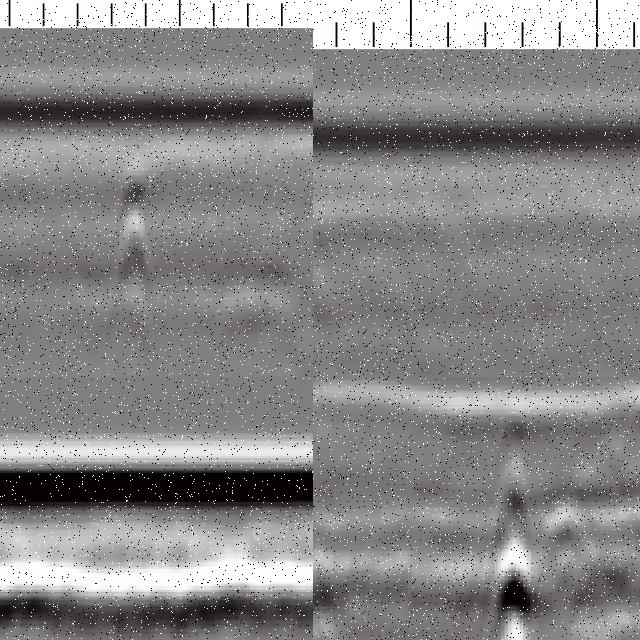crack: (492, 411, 531, 640), (114, 147, 148, 351)
